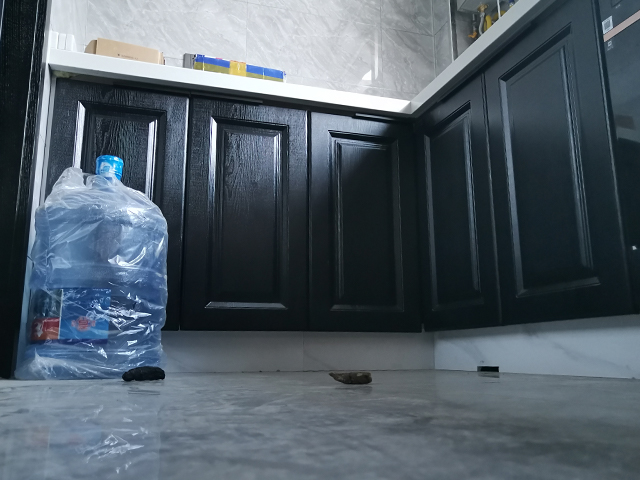cabinet: (404, 1, 626, 379), (180, 76, 411, 377)
feces: (120, 363, 168, 385), (328, 370, 374, 385)
